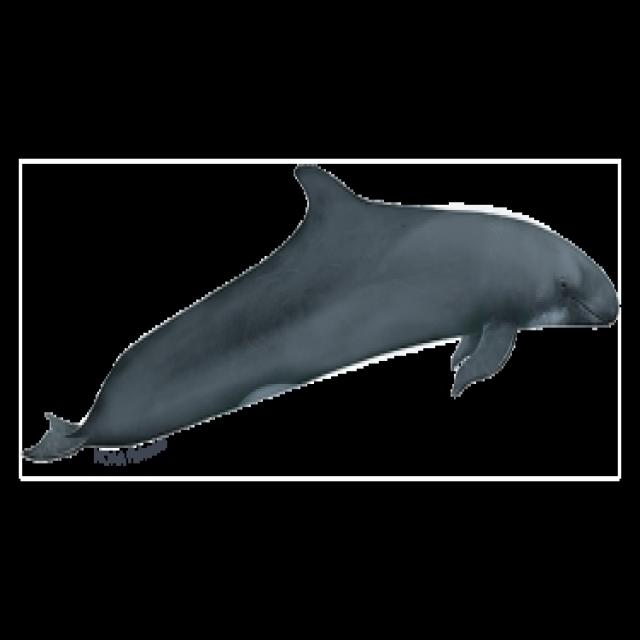penguin: (22, 164, 616, 461)
